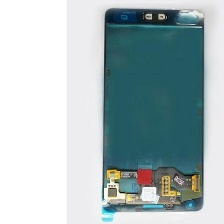phone: (100, 4, 212, 217)
